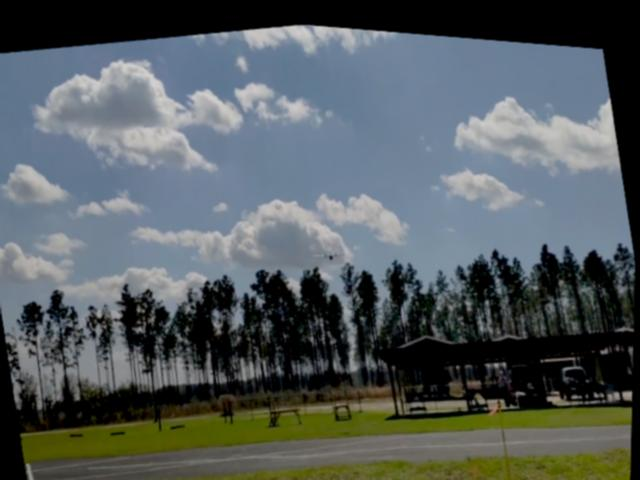plane: (315, 242, 346, 258)
